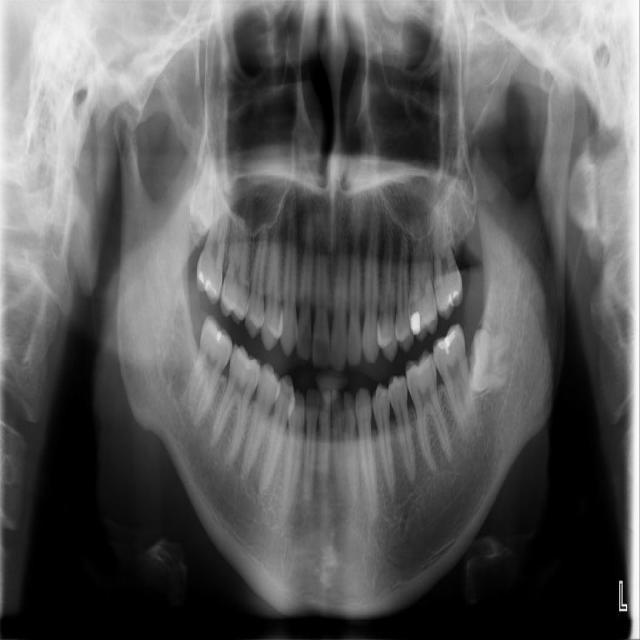3M ESPE Implant: (189, 144, 217, 238)
52: (185, 312, 246, 373), (429, 322, 470, 380), (404, 283, 442, 343), (224, 343, 264, 397), (431, 262, 466, 321), (406, 349, 437, 404), (196, 251, 222, 304), (258, 362, 281, 409)
73: (624, 616, 632, 630)
BioHorizons Implant: (426, 193, 466, 321)
Biomet 3i Implant: (464, 324, 515, 398)
Blue Sky Bio Implant: (427, 322, 482, 437)
Caries: (191, 184, 242, 305)
Implant: (180, 313, 239, 428)
